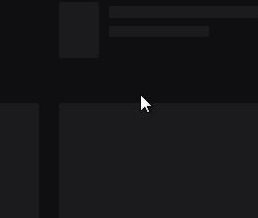cursor: (137, 92, 154, 116)
